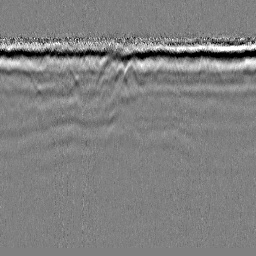cavity: (120, 57, 139, 87)
